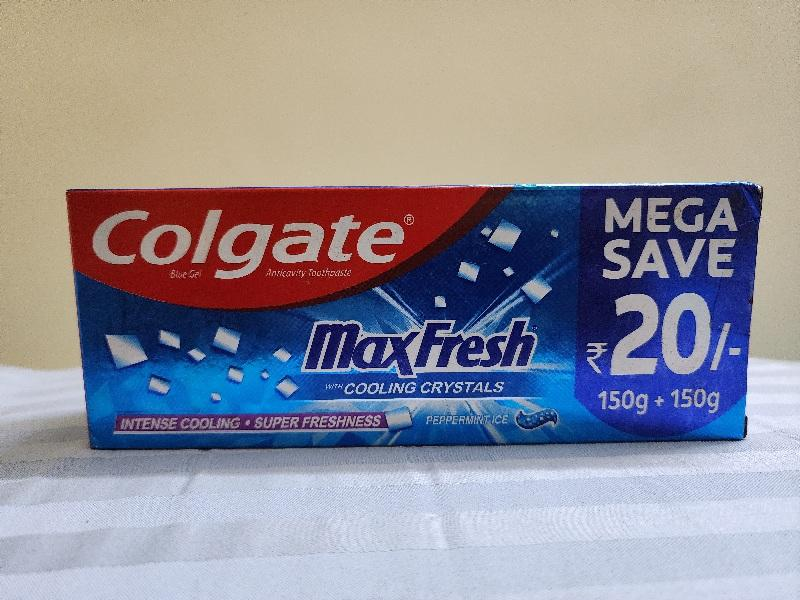Colgate: (66, 188, 757, 449)
